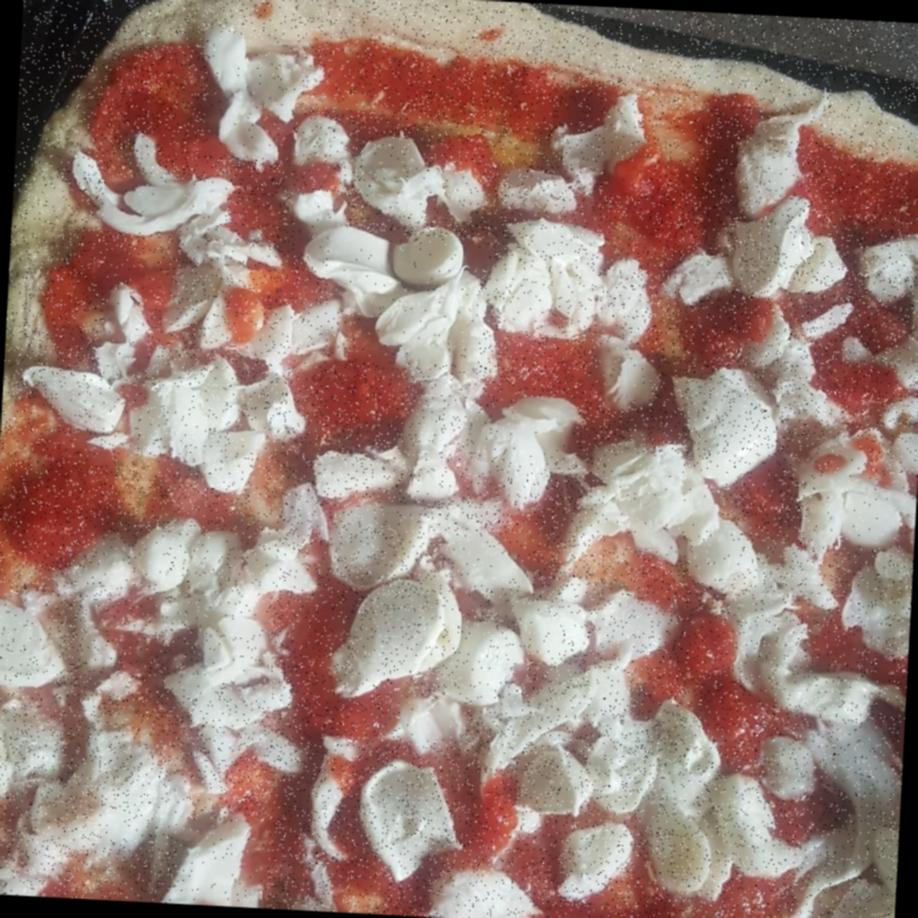Cheese: (82, 528, 274, 698), (0, 739, 169, 899), (640, 703, 780, 890), (58, 364, 265, 475), (328, 500, 466, 666), (793, 720, 905, 918), (324, 232, 483, 367), (746, 600, 910, 716), (526, 659, 624, 823), (505, 226, 628, 336), (204, 37, 304, 160), (606, 452, 726, 554), (359, 761, 456, 864), (689, 370, 781, 472), (362, 138, 479, 217), (174, 818, 270, 908), (808, 474, 918, 552), (562, 93, 643, 193), (444, 620, 527, 714), (103, 176, 227, 238), (734, 202, 808, 300), (454, 531, 535, 617), (470, 408, 546, 494), (0, 593, 62, 696), (730, 122, 805, 205), (260, 304, 350, 370), (166, 272, 233, 358), (558, 824, 626, 904), (423, 870, 536, 918), (174, 224, 270, 280), (592, 594, 667, 664), (758, 740, 830, 807), (514, 600, 586, 664), (685, 519, 753, 583), (103, 290, 151, 376), (319, 456, 414, 498), (514, 397, 578, 458), (412, 378, 460, 456), (781, 346, 825, 428), (598, 343, 652, 407), (800, 438, 872, 486), (864, 229, 918, 292), (782, 550, 842, 606), (294, 190, 347, 253), (852, 552, 913, 606), (292, 115, 356, 166), (399, 698, 466, 744), (749, 314, 789, 372), (670, 254, 727, 294), (416, 460, 460, 501), (896, 336, 918, 388), (894, 434, 918, 470)
Pizza: (0, 0, 918, 918)
Tomatoes: (472, 778, 516, 858), (681, 612, 733, 678), (744, 472, 798, 519), (340, 853, 394, 896), (96, 253, 159, 288), (286, 156, 340, 196), (230, 288, 264, 348), (290, 158, 340, 197), (125, 270, 172, 308), (427, 135, 473, 173), (472, 129, 505, 180), (662, 194, 696, 242), (710, 94, 755, 128), (608, 162, 649, 197)
